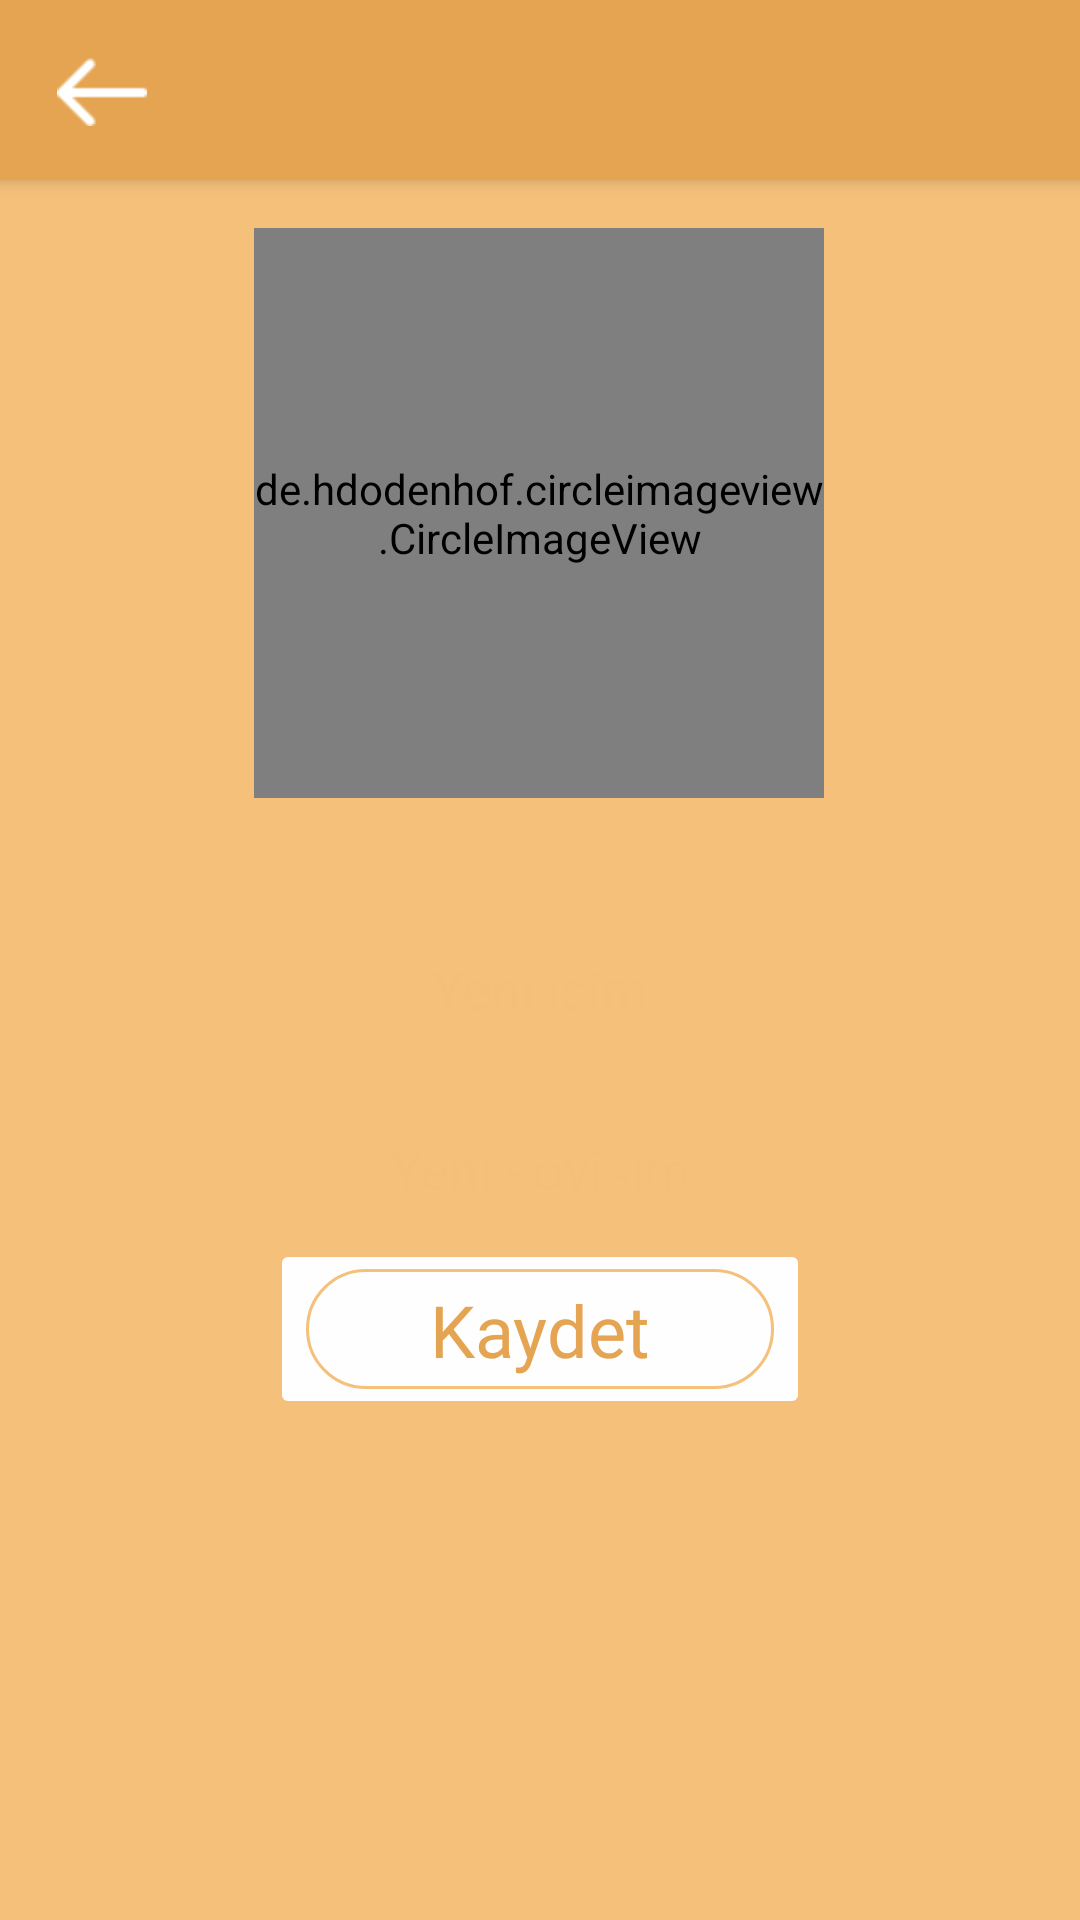

Screen size 1080*1920. Icon name, then its box in pixels as (x1,y1,x2,y2):
back: (57,58,147,126)
